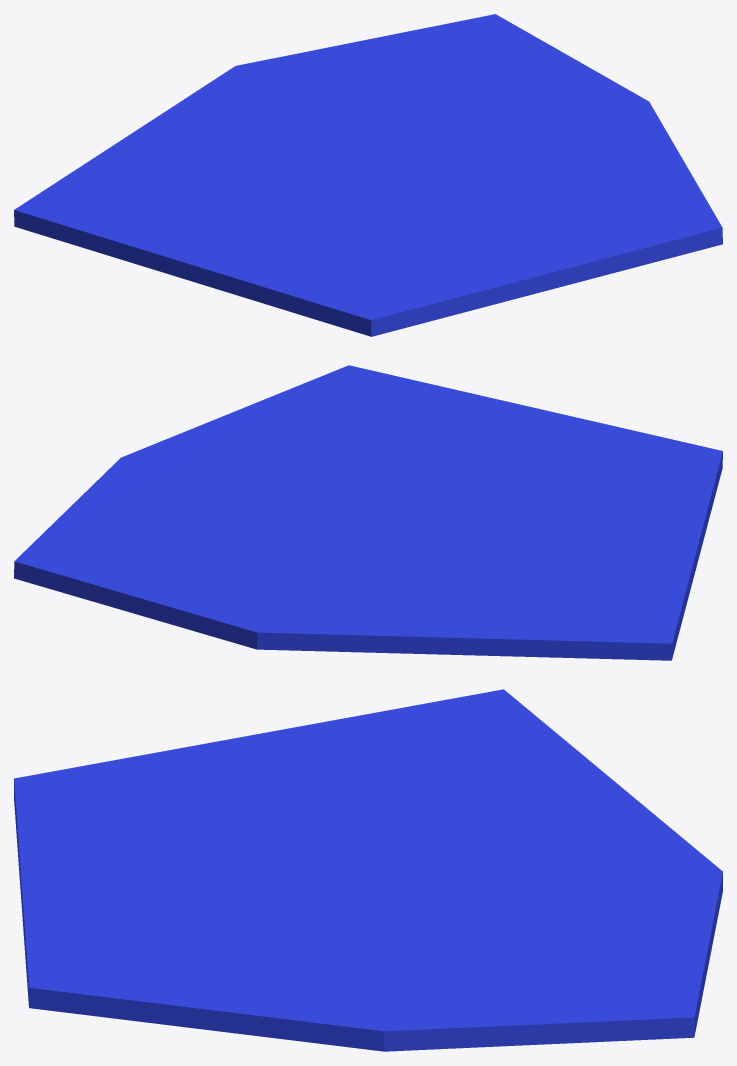
Rendered from dziura1.fbx.
The picture shows the model from 3 angles, top to bottom: view 1: azimuth 30°, elevation 25°; view 2: azimuth 150°, elevation 25°; view 3: azimuth 270°, elevation 25°; orthographic projection. The views are drawn at different scales.
Parts seen in each view (by area): view 1: Cylinder.020; view 2: Cylinder.020; view 3: Cylinder.020.
Boxes of the visible parts, box(x1,y1,x2,y2) form: Cylinder.020: box(14, 14, 722, 336); Cylinder.020: box(14, 365, 722, 660); Cylinder.020: box(14, 689, 722, 1051).
Bounding box in the file's own units: 1.36 × 0.0412 × 1.19.
